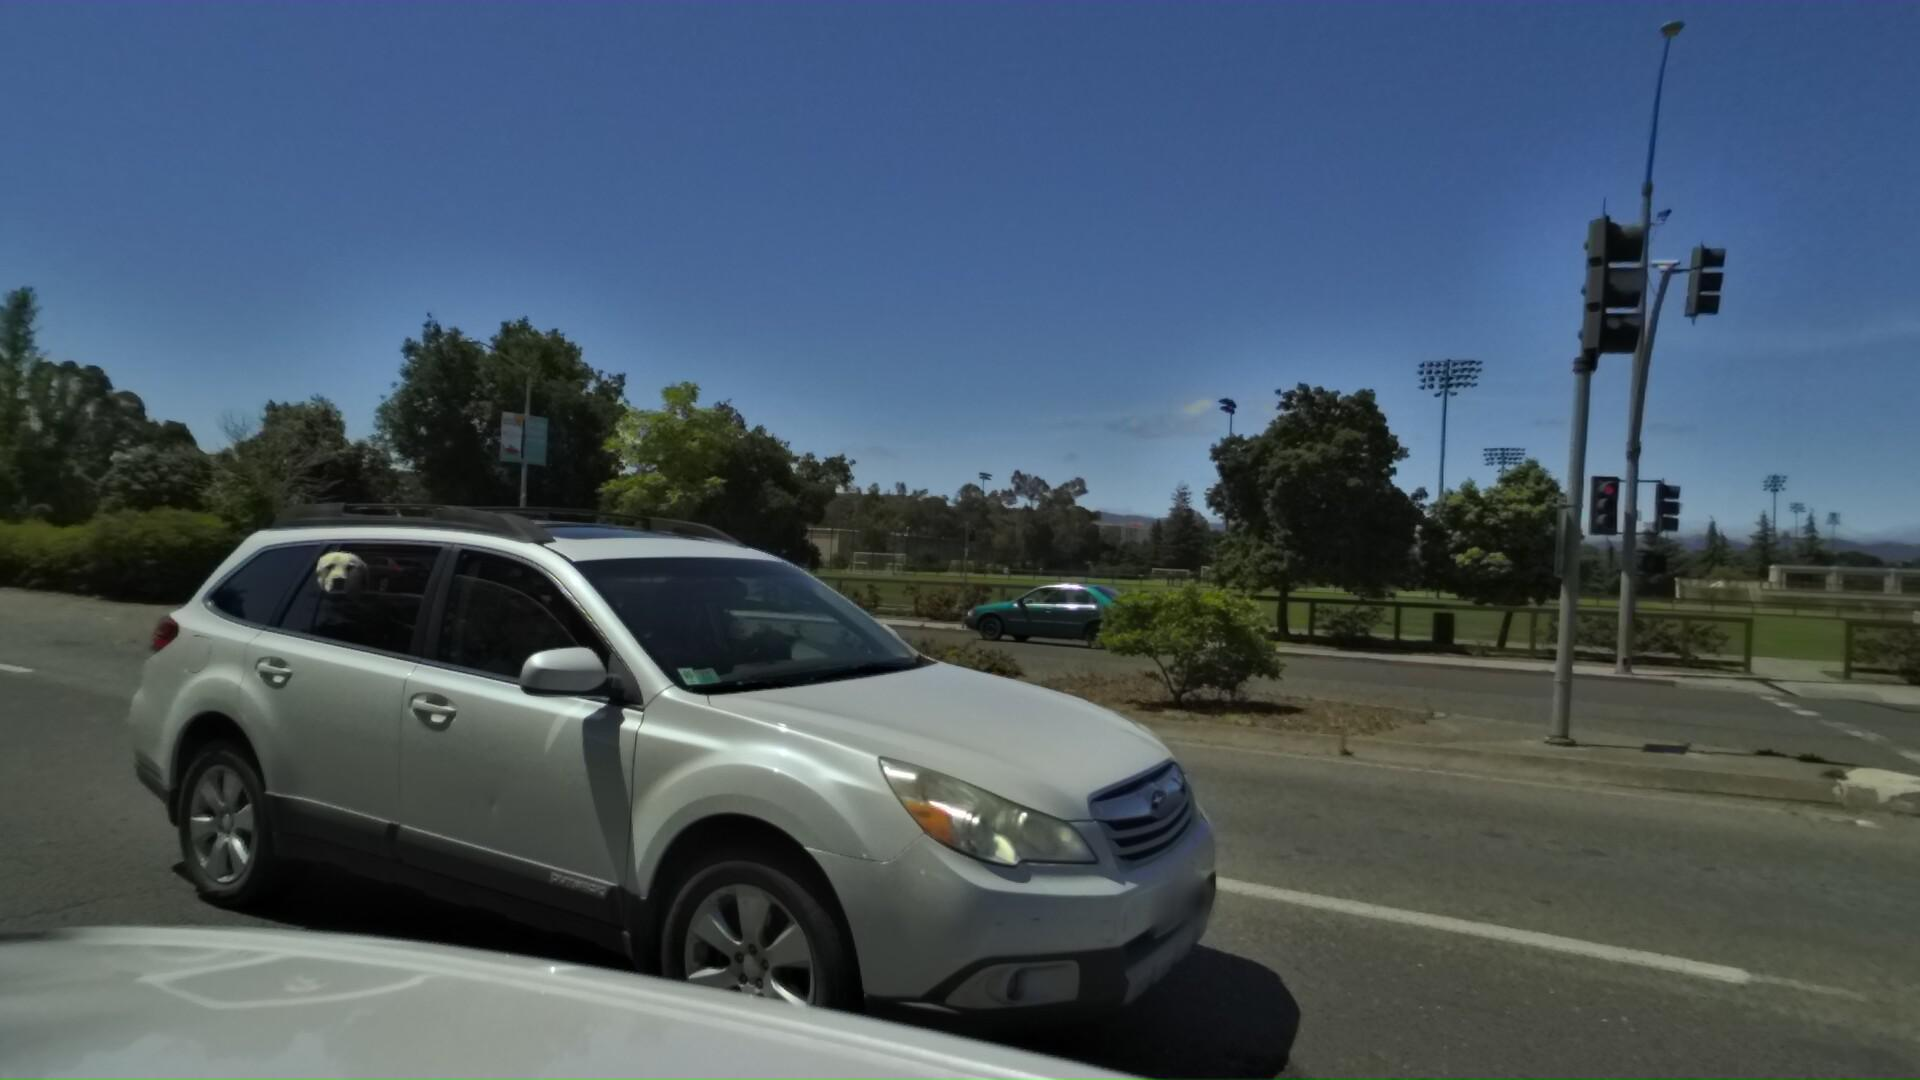car: (62, 480, 1302, 1080), (911, 555, 1130, 646)
